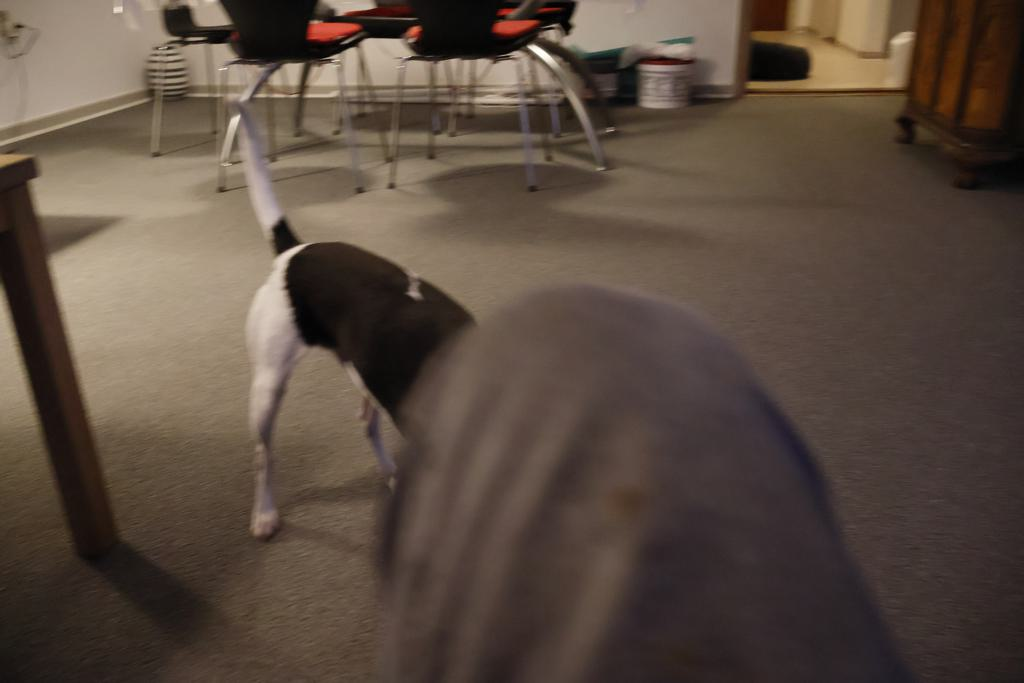Dog: (216, 85, 494, 548)
Humanoid: (356, 270, 920, 683)
